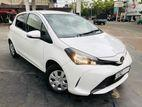car: (5, 9, 132, 101)
